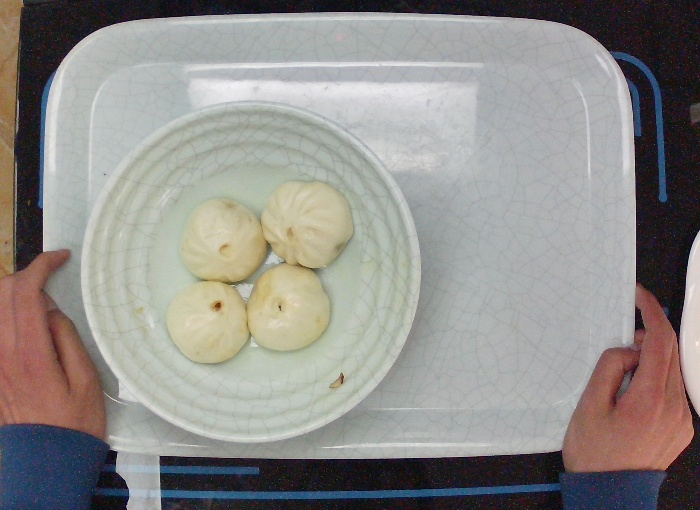JYsf-Da_Tang_Wan: (76, 96, 425, 447)
